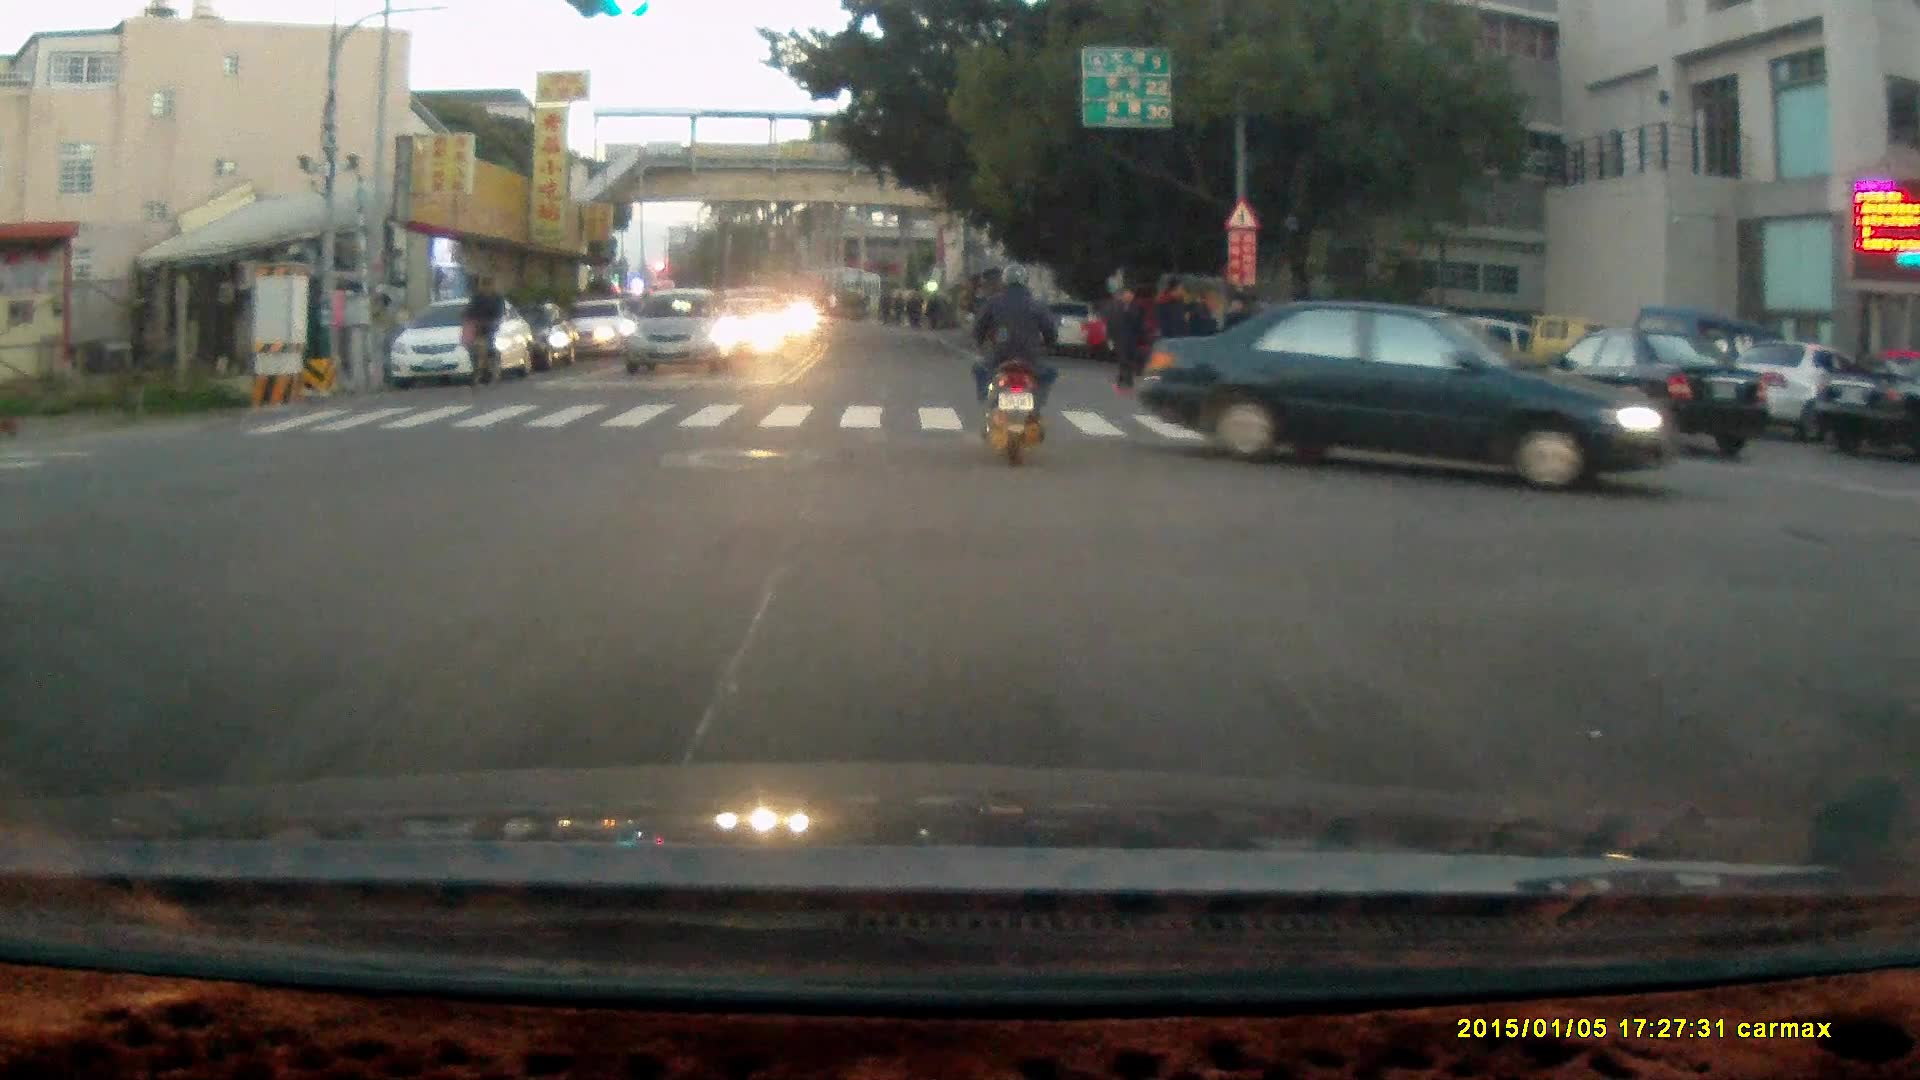pedestrian: (1107, 284, 1145, 393), (1153, 275, 1190, 386), (1182, 289, 1215, 376)
rider: (967, 260, 1061, 465), (459, 271, 503, 390)
vehicle: (1133, 289, 1685, 493), (1525, 327, 1771, 452), (1707, 337, 1895, 441), (388, 293, 542, 390), (1810, 353, 1920, 461), (620, 289, 742, 379)
